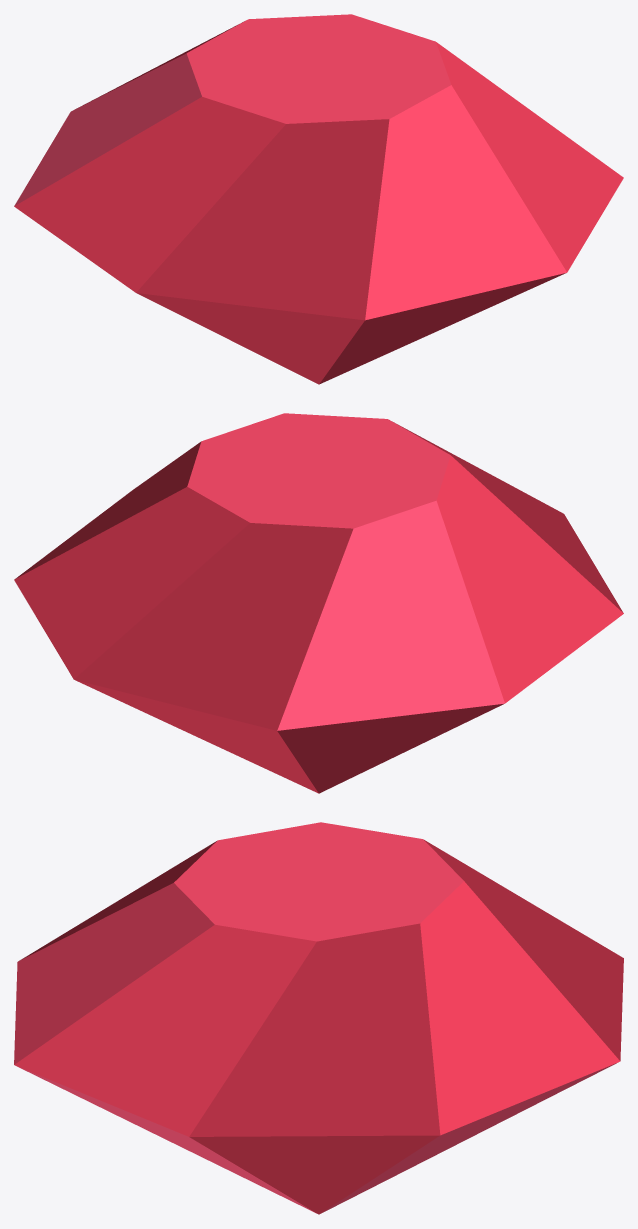
File: Ruby.glb
The picture shows the model from 3 angles, top to bottom: view 1: azimuth 30°, elevation 25°; view 2: azimuth 150°, elevation 25°; view 3: azimuth 270°, elevation 25°; orthographic projection. The views are drawn at different scales.
Visible parts, largest first — view 1: Ruby_gem; view 2: Ruby_gem; view 3: Ruby_gem.
Part boxes in pixels (<box>): Ruby_gem: <box>14,14,623,384</box>; Ruby_gem: <box>14,413,623,793</box>; Ruby_gem: <box>14,822,623,1214</box>.
Bounding box in the file's own units: 0.9529 × 0.59 × 0.9801.
